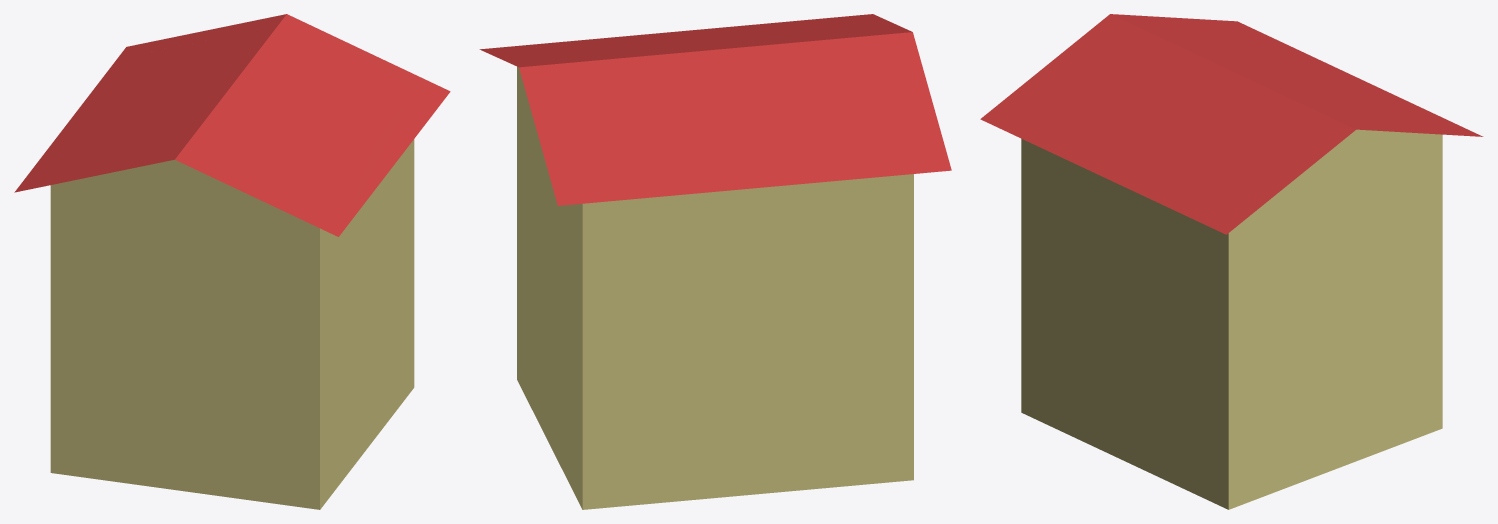
3 views of the same model, side by side, from view 1: azimuth 30°, elevation 25°; view 2: azimuth 150°, elevation 25°; view 3: azimuth 270°, elevation 25° (orthographic). The views are drawn at different scales.
Size of the model in its own units: 8.64 by 8.61 by 6.57.
